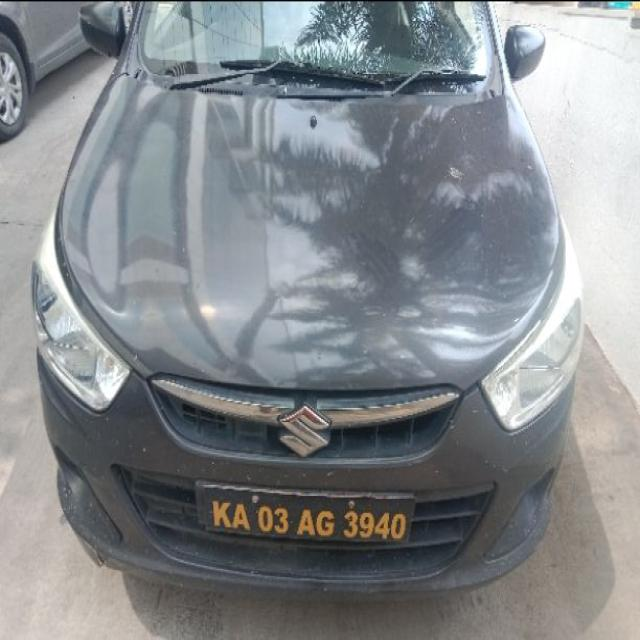license_plate: (32, 0, 584, 597), (194, 478, 416, 546)
